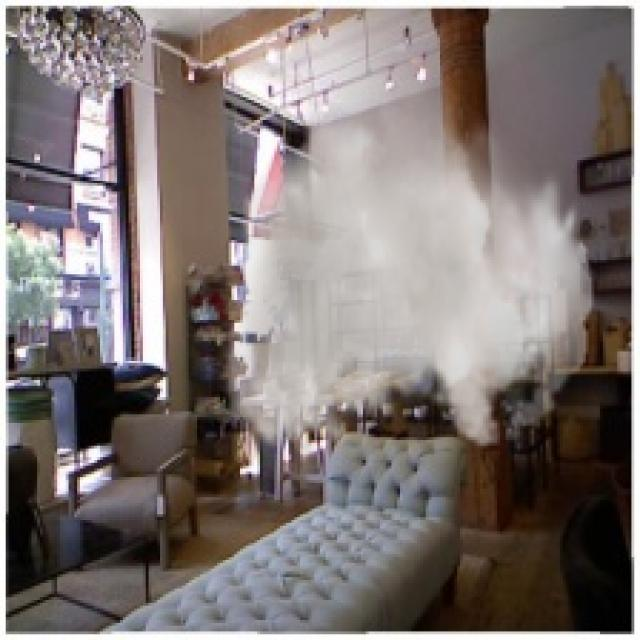smoke: (223, 69, 594, 460)
